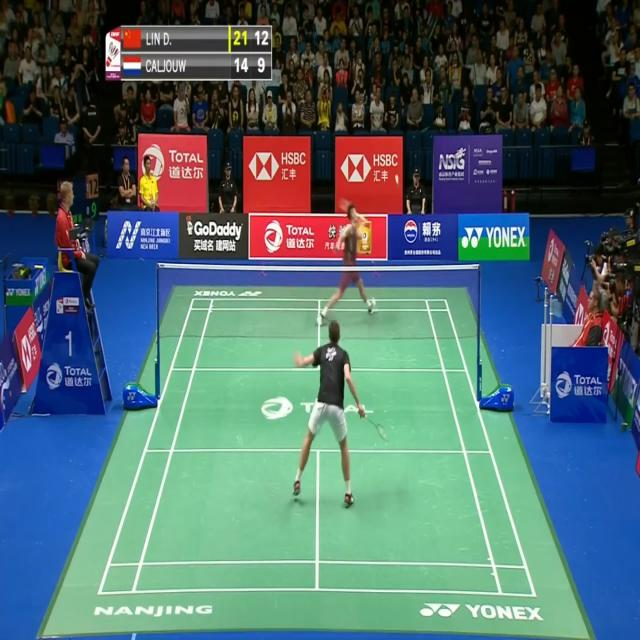Player1: (292, 320, 390, 511)
Player2: (318, 200, 374, 322)
